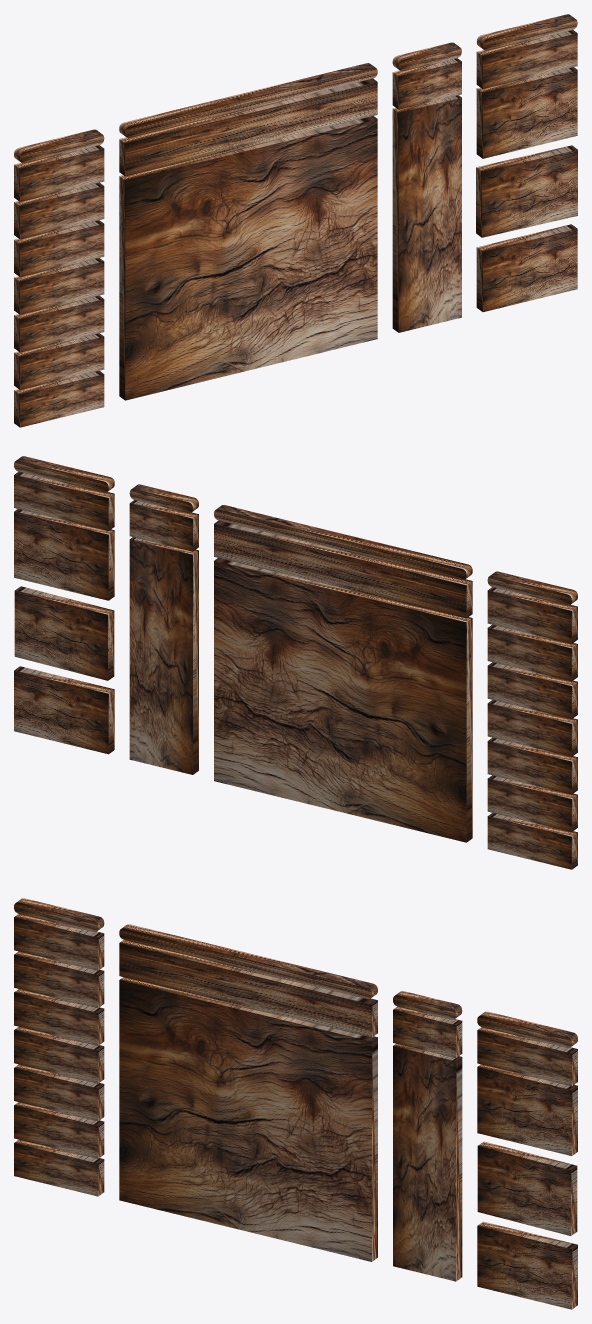
The model's file is business_model.glb.
3 renders of one model, top to bottom at view 1: azimuth 30°, elevation 25°; view 2: azimuth 150°, elevation 25°; view 3: azimuth 330°, elevation 25°, orthographic.
Visible parts, largest first — view 1: Rectangle_11, Rectangle_14, Rectangle_10, Rectangle_18, Rectangle_17, Rectangle_19, Rectangle_9, Rectangle_16, Rectangle_6, Rectangle_5, Rectangle_4, Rectangle_2 (+7 smaller); view 2: Rectangle_11, Rectangle_14, Rectangle_10, Rectangle_18, Rectangle_17, Rectangle_19, Rectangle_9, Rectangle_16, Rectangle_5, Rectangle_6, Rectangle_4, Rectangle_8 (+7 smaller); view 3: Rectangle_11, Rectangle_14, Rectangle_10, Rectangle_18, Rectangle_17, Rectangle_19, Rectangle_9, Rectangle_16, Rectangle_6, Rectangle_5, Rectangle_4, Rectangle_8 (+7 smaller).
Boxes of the visible parts, box(x1,y1,x2,y2) form: Rectangle_11: box(119, 116, 377, 400); Rectangle_14: box(392, 95, 461, 332); Rectangle_10: box(119, 78, 377, 176); Rectangle_18: box(476, 145, 577, 237); Rectangle_17: box(476, 67, 577, 158); Rectangle_19: box(476, 224, 577, 311); Rectangle_9: box(119, 63, 377, 137); Rectangle_16: box(476, 30, 577, 88); Rectangle_6: box(14, 295, 104, 352); Rectangle_5: box(14, 258, 104, 314); Rectangle_4: box(14, 220, 104, 276); Rectangle_2: box(14, 145, 104, 201); Rectangle_11: box(214, 558, 472, 842); Rectangle_14: box(129, 537, 198, 774); Rectangle_10: box(214, 520, 472, 618); Rectangle_18: box(14, 586, 114, 680); Rectangle_17: box(14, 509, 114, 600); Rectangle_19: box(14, 666, 114, 754); Rectangle_9: box(214, 505, 472, 579); Rectangle_16: box(14, 471, 114, 530); Rectangle_5: box(487, 700, 577, 756); Rectangle_6: box(487, 737, 577, 794); Rectangle_4: box(487, 662, 577, 718); Rectangle_8: box(487, 813, 577, 869); Rectangle_11: box(119, 977, 377, 1261); Rectangle_14: box(393, 1043, 462, 1281); Rectangle_10: box(119, 940, 377, 1037); Rectangle_18: box(477, 1141, 577, 1235); Rectangle_17: box(477, 1064, 577, 1155); Rectangle_19: box(477, 1221, 577, 1309); Rectangle_9: box(119, 924, 377, 999); Rectangle_16: box(477, 1027, 577, 1086); Rectangle_6: box(14, 1064, 104, 1121); Rectangle_5: box(14, 1026, 104, 1083); Rectangle_4: box(14, 989, 104, 1045); Rectangle_8: box(14, 1139, 104, 1196).
Bounding box in the file's own units: 19.88 × 9.34 × 0.4683.
1 material, 1 textured.
